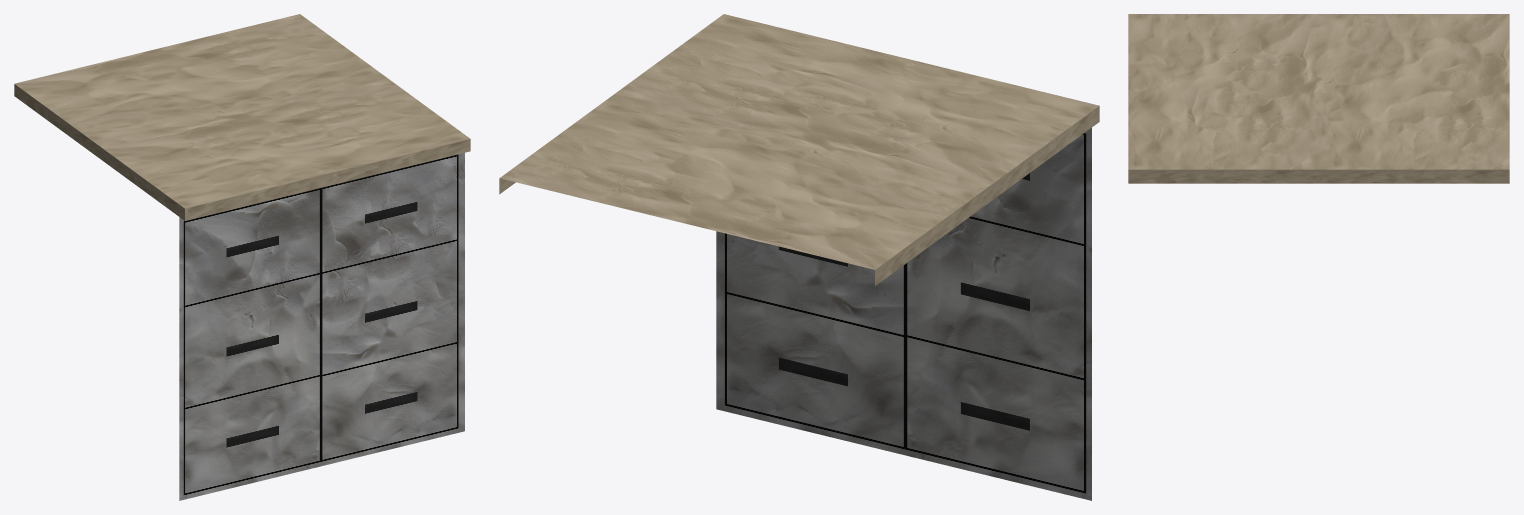
File: worktop02.fbx
3 views of the same model, side by side, from view 1: azimuth 30°, elevation 25°; view 2: azimuth 150°, elevation 25°; view 3: azimuth 270°, elevation 25° (orthographic). The views are drawn at different scales.
Visible parts, largest first — view 1: WorkTop02; view 2: WorkTop02; view 3: WorkTop02.
Part boxes in pixels (x1=…): WorkTop02: x1=14, y1=14, x2=470, y2=500; WorkTop02: x1=499, y1=14, x2=1099, y2=500; WorkTop02: x1=1128, y1=14, x2=1509, y2=183.
Size of the model in its own units: 1 by 0.9913 by 1.03.
Materials: 1 (1 with a texture image).
